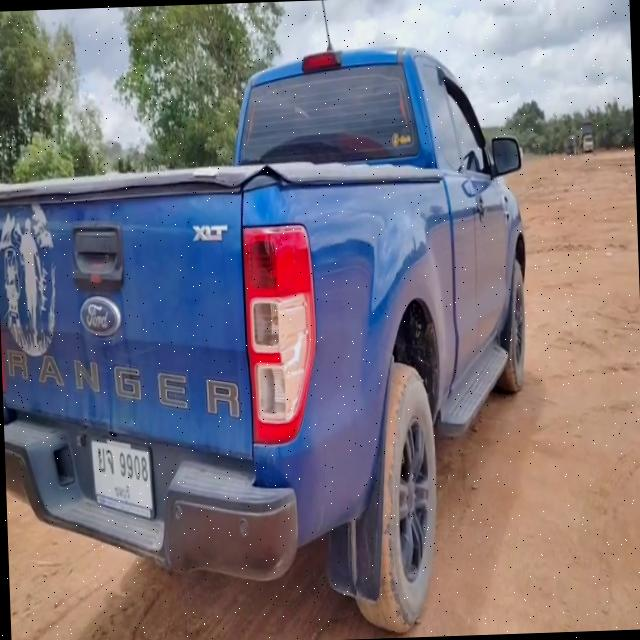Digit: (118, 448, 148, 482)
Licenseplate: (91, 434, 154, 520)
Provincename: (113, 482, 131, 504)
Thaichar: (96, 444, 114, 476)
